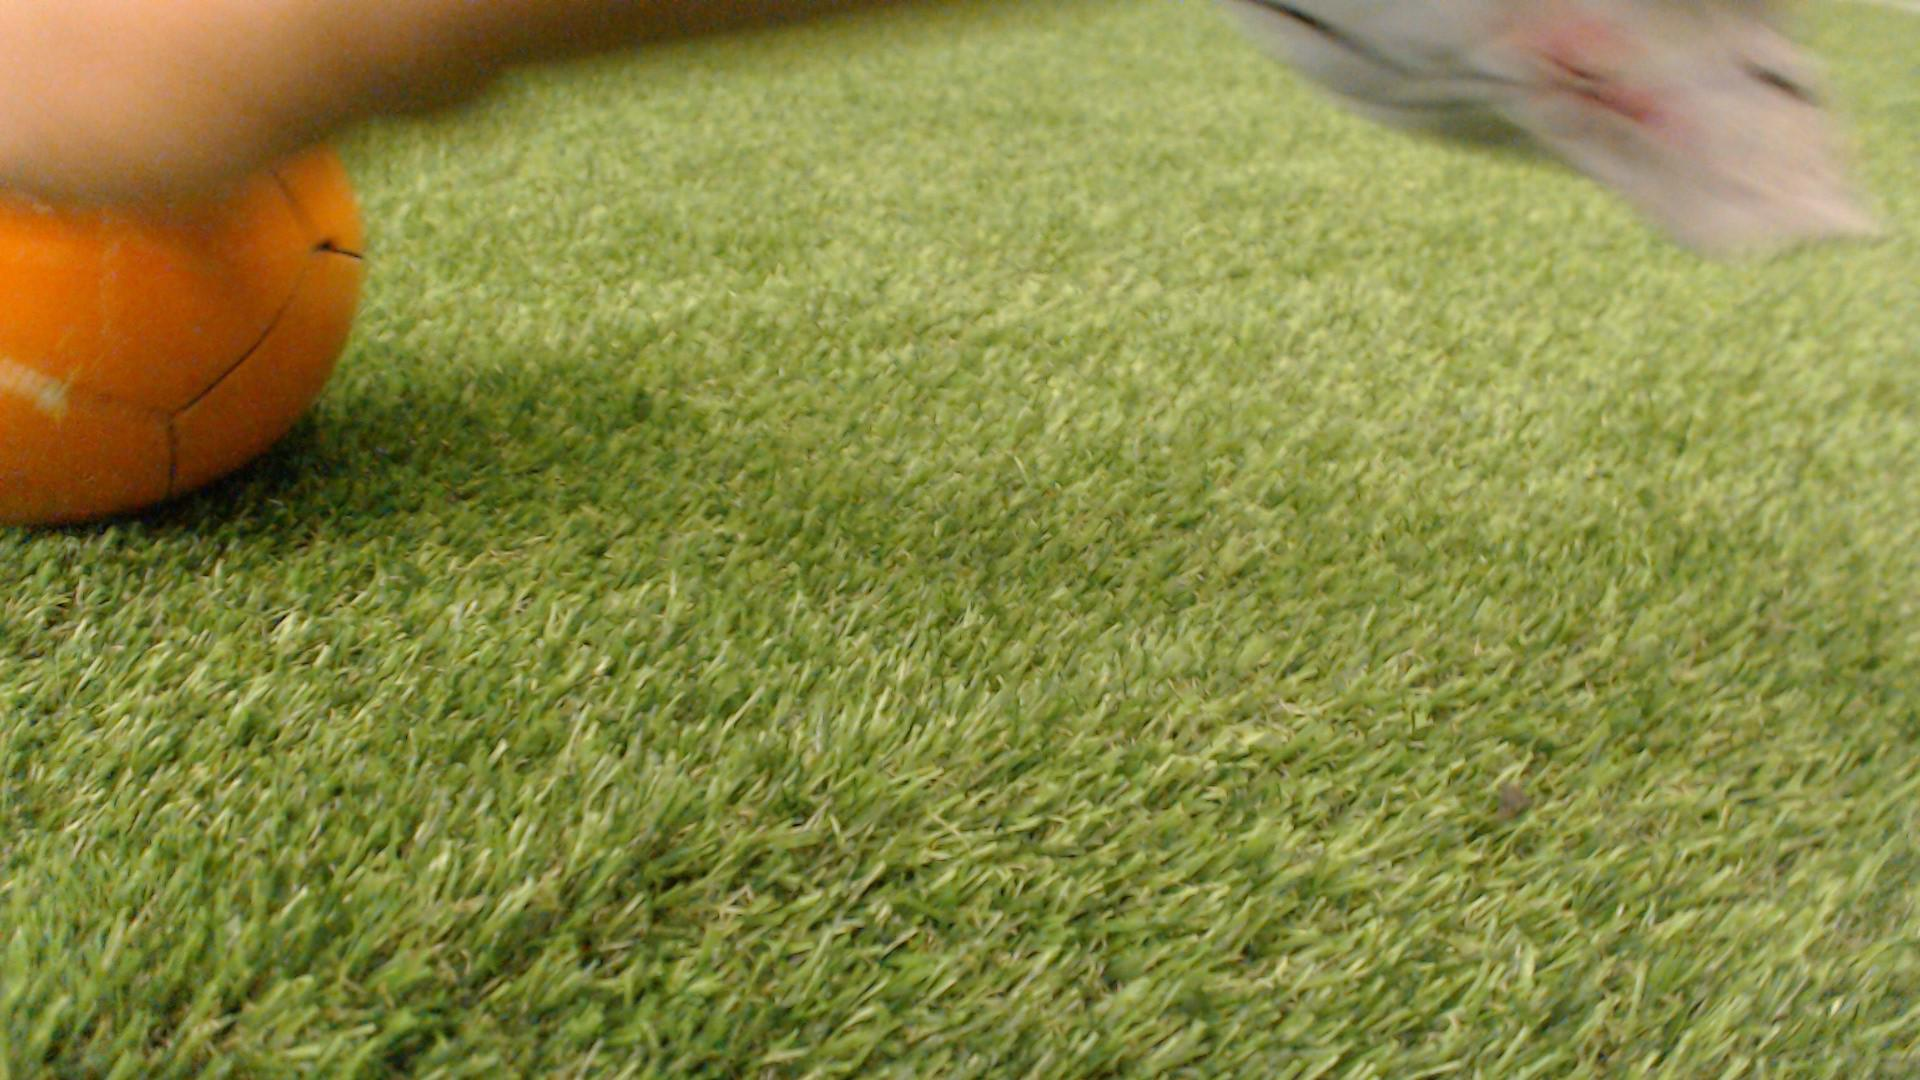bola: (0, 135, 384, 545)
